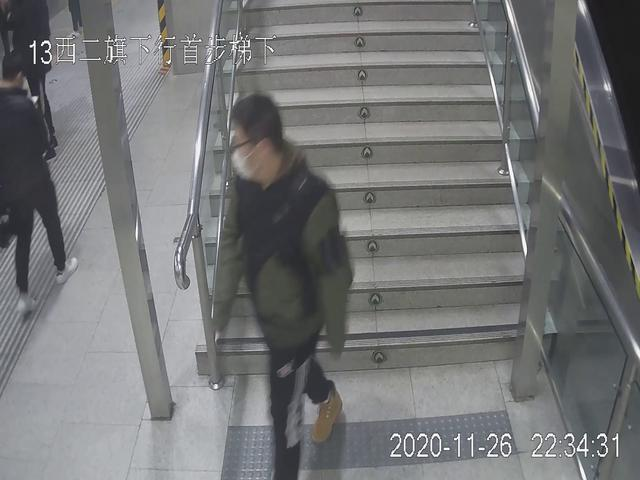person: (201, 90, 355, 480), (1, 45, 81, 322)
